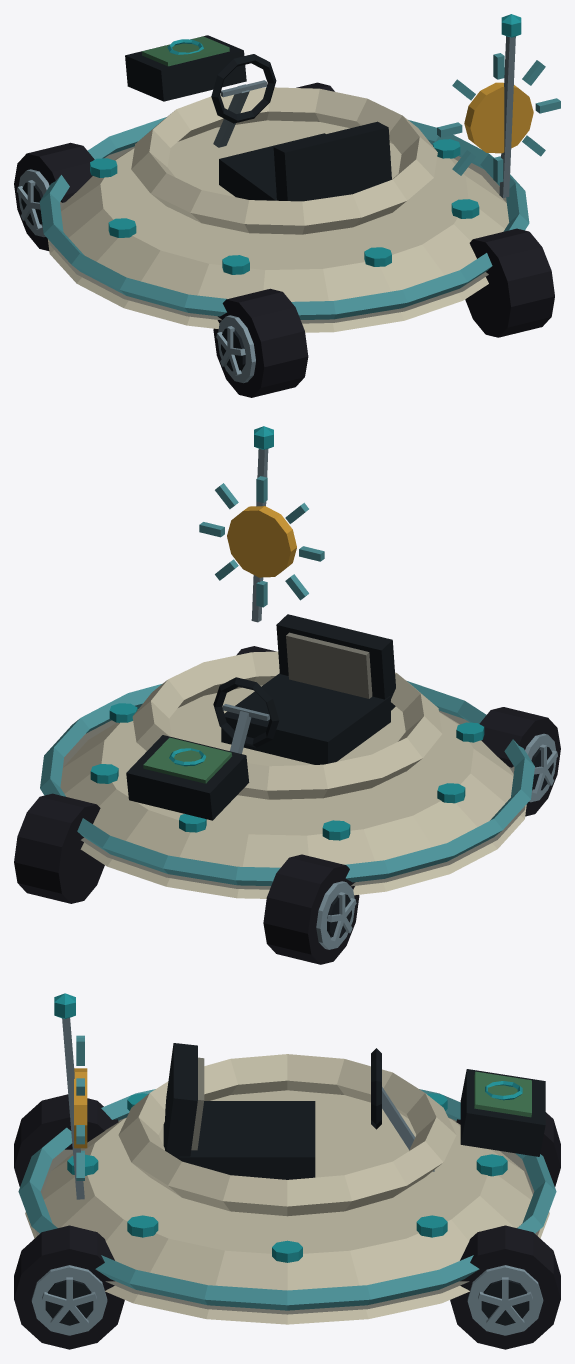
File: kart.glb
The picture shows the model from 3 angles, top to bottom: view 1: azimuth 30°, elevation 25°; view 2: azimuth 150°, elevation 25°; view 3: azimuth 270°, elevation 25°; orthographic projection. The views are drawn at different scales.
Visible parts, largest first — view 1: identity-saucer-saucer-double-rim, identity-saucer-driver-cockpit, wheel-rear-left, wheel-rear-right, identity-saucer-motif-scanner, identity-saucer-motif-sun, wheel-front-left, identity-saucer-motif-antenna; view 2: identity-saucer-saucer-double-rim, identity-saucer-driver-cockpit, wheel-front-left, identity-saucer-motif-scanner, wheel-front-right, identity-saucer-motif-sun, wheel-rear-left, identity-saucer-motif-antenna; view 3: identity-saucer-saucer-double-rim, identity-saucer-driver-cockpit, wheel-front-right, wheel-rear-right, identity-saucer-motif-scanner, wheel-rear-left, identity-saucer-motif-sun, identity-saucer-motif-antenna, wheel-front-left.
Boxes of the visible parts, x1=… form: identity-saucer-saucer-double-rim: x1=39, y1=87, x2=529, y2=332; identity-saucer-driver-cockpit: x1=211, y1=54, x2=391, y2=201; wheel-rear-left: x1=213, y1=288, x2=308, y2=397; wheel-rear-right: x1=465, y1=228, x2=554, y2=337; identity-saucer-motif-scanner: x1=125, y1=35, x2=246, y2=101; identity-saucer-motif-sun: x1=437, y1=53, x2=560, y2=182; wheel-front-left: x1=14, y1=142, x2=94, y2=250; identity-saucer-motif-antenna: x1=499, y1=14, x2=521, y2=198; identity-saucer-saucer-double-rim: x1=40, y1=651, x2=534, y2=898; identity-saucer-driver-cockpit: x1=213, y1=614, x2=395, y2=764; wheel-front-left: x1=263, y1=854, x2=359, y2=964; identity-saucer-motif-scanner: x1=126, y1=735, x2=249, y2=820; wheel-front-right: x1=14, y1=793, x2=104, y2=903; identity-saucer-motif-sun: x1=199, y1=476, x2=324, y2=607; wheel-rear-left: x1=479, y1=707, x2=560, y2=816; identity-saucer-motif-antenna: x1=251, y1=426, x2=273, y2=622; identity-saucer-saucer-double-rim: x1=18, y1=1054, x2=556, y2=1324; identity-saucer-driver-cockpit: x1=163, y1=1043, x2=434, y2=1179; wheel-front-right: x1=450, y1=1225, x2=560, y2=1349; wheel-rear-right: x1=14, y1=1225, x2=124, y2=1349; identity-saucer-motif-scanner: x1=460, y1=1069, x2=545, y2=1156; wheel-rear-left: x1=14, y1=1094, x2=118, y2=1186; identity-saucer-motif-sun: x1=74, y1=1035, x2=87, y2=1180; identity-saucer-motif-antenna: x1=54, y1=993, x2=84, y2=1199; wheel-front-left: x1=456, y1=1112, x2=560, y2=1186.
Bounding box in the file's own units: 2.42 × 1.72 × 2.46.
